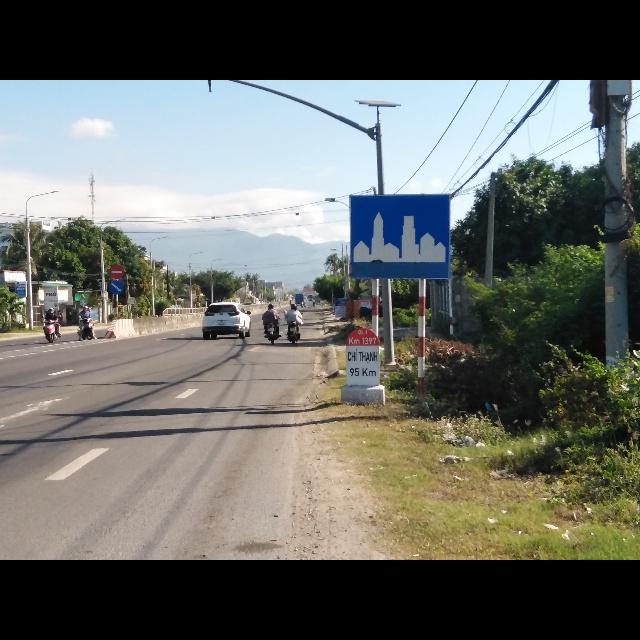Khu đông dân cư: (348, 192, 453, 279)
